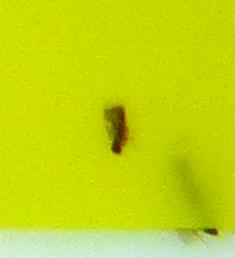Hemiptera: (100, 100, 135, 158)
